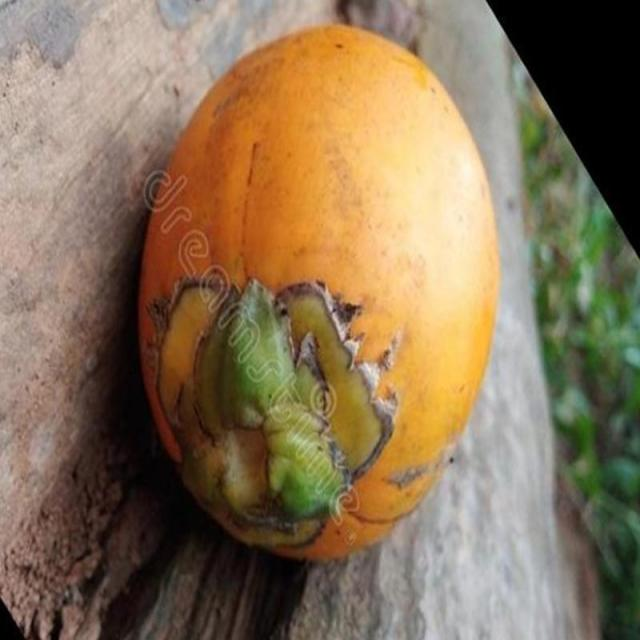good: (135, 25, 501, 564)
